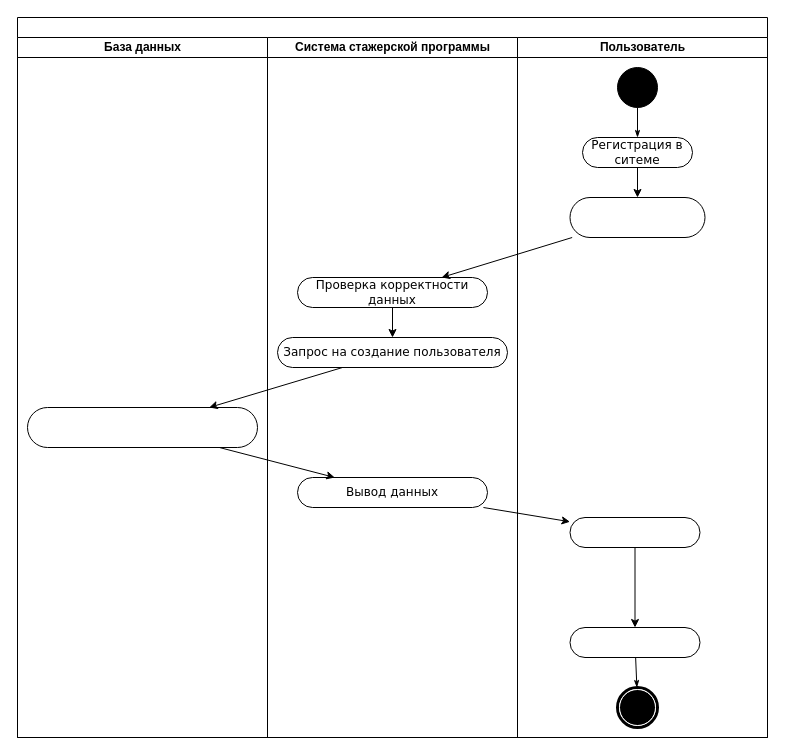
The diagram is 785 pixels wide and 755 high, and some of its shapes have lost their labels. The centre of each missing label's shape, as x and y in pixels:
"Ввод данных для регистрации" goes at pixel 637 217.
"Выход из системы" goes at pixel 634 642.
"Добавление пользователя в систему" goes at pixel 142 427.
"Использование" goes at pixel 634 532.
